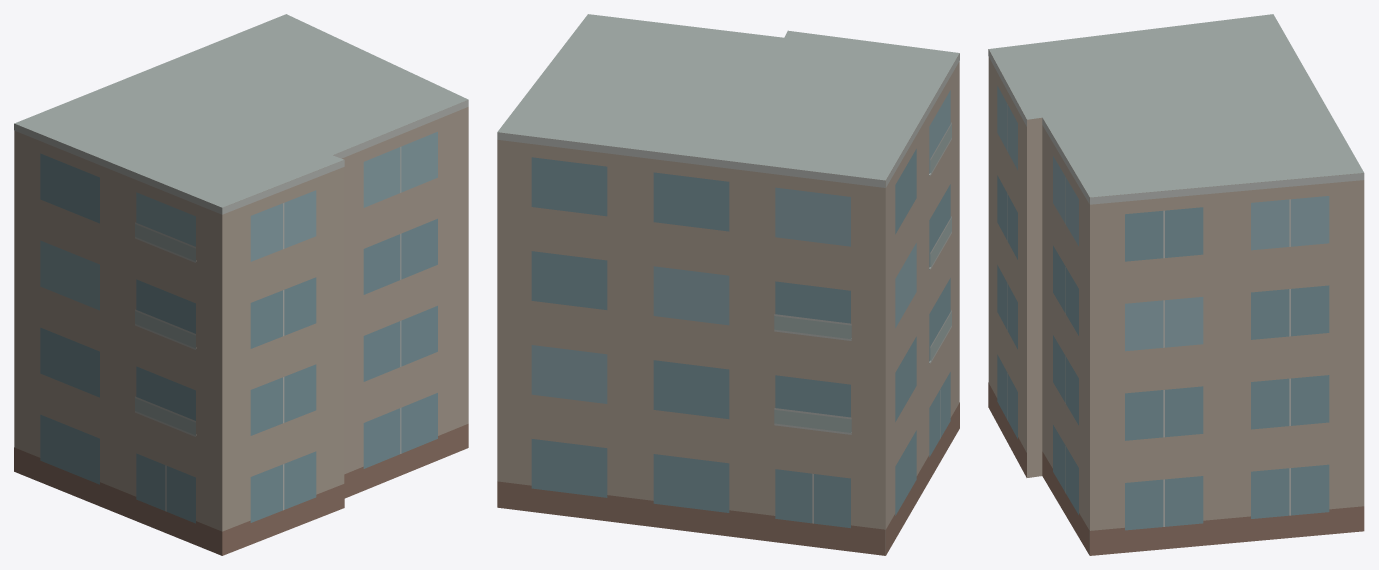
The model's file is survey-upis-32847323.glb.
3 renders of one model, left to right at view 1: azimuth 30°, elevation 25°; view 2: azimuth 150°, elevation 25°; view 3: azimuth 270°, elevation 25°, orthographic. The views are drawn at different scales.
Visible parts, largest first — view 1: survey-upis-32847323.tmp; view 2: survey-upis-32847323.tmp; view 3: survey-upis-32847323.tmp.
Boxes of the visible parts, <box> form: survey-upis-32847323.tmp: <box>14,14,468,555</box>; survey-upis-32847323.tmp: <box>497,14,959,555</box>; survey-upis-32847323.tmp: <box>988,14,1364,555</box>.
Size of the model in its own units: 13.31 by 12.11 by 11.52.
